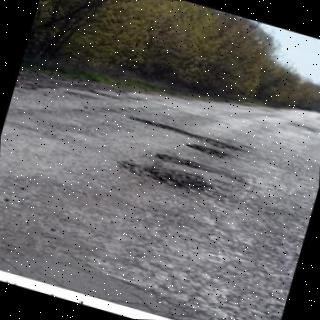pothole: (129, 116, 242, 151), (118, 160, 210, 188), (156, 154, 221, 175), (185, 142, 226, 158)
